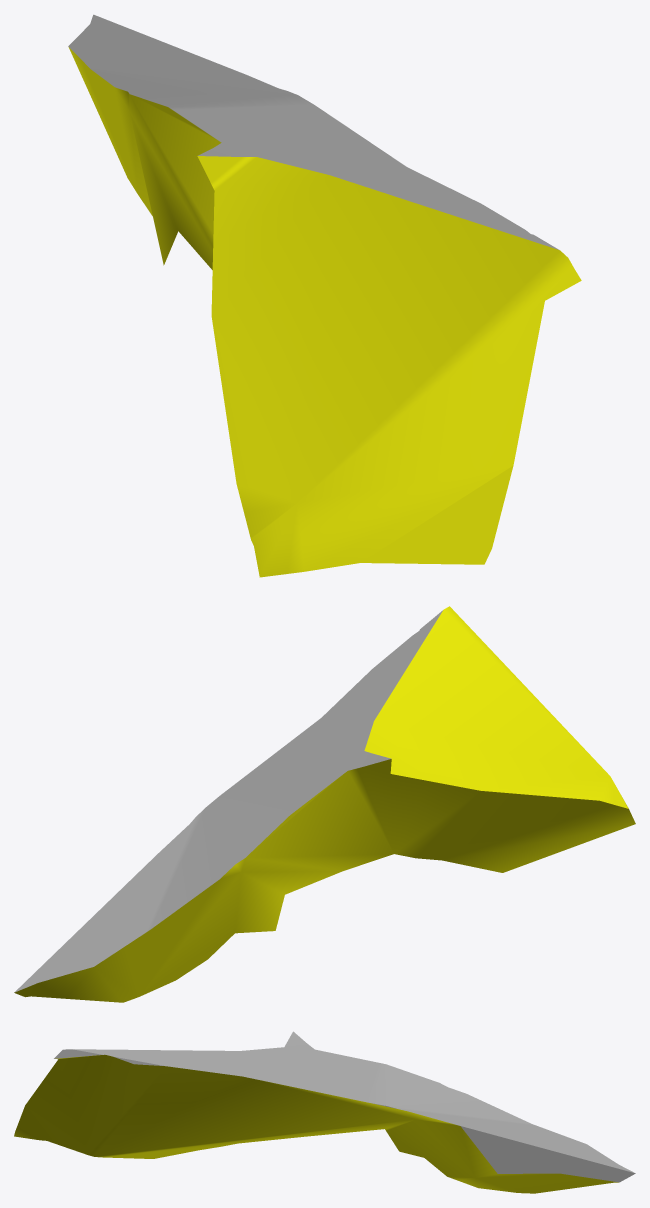
The model's file is Bridge7.fbx.
The picture shows the model from 3 angles, top to bottom: view 1: azimuth 30°, elevation 25°; view 2: azimuth 150°, elevation 25°; view 3: azimuth 270°, elevation 25°; orthographic projection. The views are drawn at different scales.
Parts seen in each view (by area): view 1: shard6; view 2: shard6; view 3: shard6.
Part boxes in pixels (x1,y1,x2,y2): shard6: [68, 14, 581, 577]; shard6: [14, 606, 635, 1002]; shard6: [14, 1031, 635, 1193].
Bounding box in the file's own units: 68.16 × 50.03 × 186.
